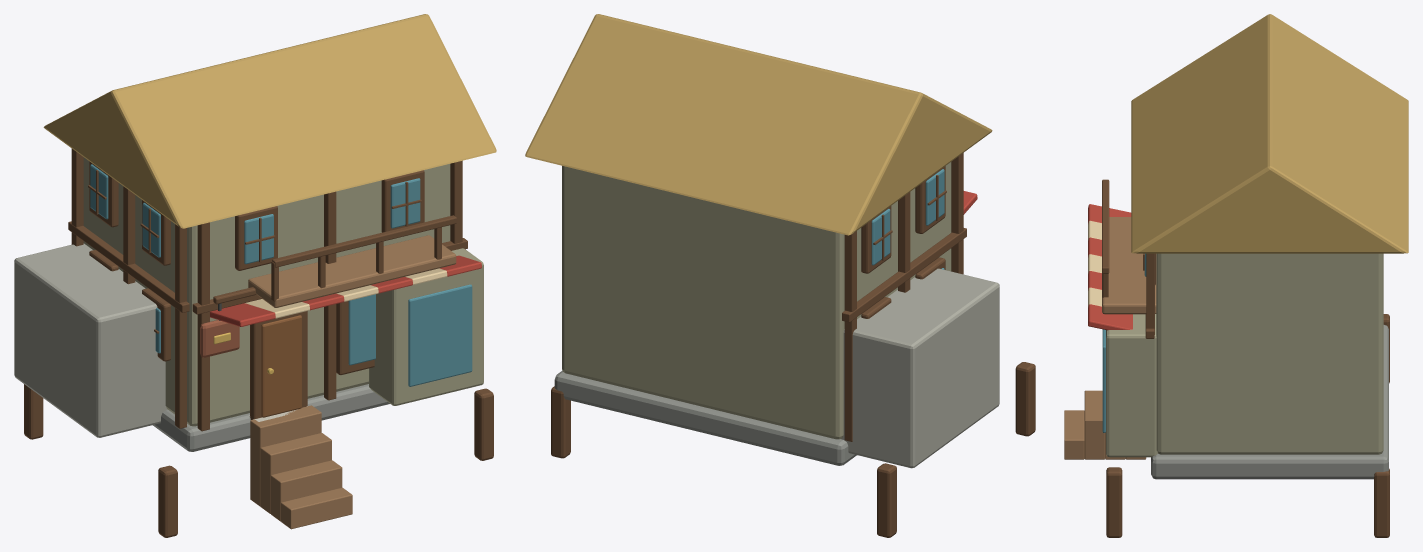
Rendered from wetland-merchant-2.glb.
3 views of the same model, side by side, from view 1: azimuth 30°, elevation 25°; view 2: azimuth 150°, elevation 25°; view 3: azimuth 270°, elevation 25° (orthographic). The views are drawn at different scales.
Visible parts, largest first — view 1: Golden thatch, Weathered planks, Dark beams, Fieldstone, Aged oak, Blue glass, Door oak, Foundation stone, Market red cloth, Market cream cloth, Painted sign; view 2: Weathered planks, Golden thatch, Fieldstone, Dark beams, Foundation stone, Blue glass; view 3: Golden thatch, Weathered planks, Foundation stone, Aged oak, Dark beams, Market red cloth, Market cream cloth, Blue glass.
Part boxes in pixels (<box>): Golden thatch: <box>43,14,496,228</box>; Weathered planks: <box>83,157,483,426</box>; Dark beams: <box>24,148,493,537</box>; Fieldstone: <box>14,243,167,437</box>; Aged oak: <box>248,235,456,529</box>; Blue glass: <box>90,164,472,386</box>; Door oak: <box>261,315,301,417</box>; Foundation stone: <box>153,384,389,451</box>; Market red cloth: <box>210,255,481,326</box>; Market cream cloth: <box>245,268,447,318</box>; Painted sign: <box>200,320,239,357</box>; Weathered planks: <box>562,162,951,439</box>; Golden thatch: <box>525,14,992,235</box>; Fieldstone: <box>841,268,999,468</box>; Dark beams: <box>551,153,1035,537</box>; Foundation stone: <box>554,370,856,465</box>; Blue glass: <box>871,169,944,269</box>; Golden thatch: <box>1131,14,1408,253</box>; Weathered planks: <box>1106,253,1383,457</box>; Foundation stone: <box>1151,325,1388,479</box>; Aged oak: <box>1064,217,1156,459</box>; Dark beams: <box>1102,179,1389,537</box>; Market red cloth: <box>1088,204,1132,330</box>; Market cream cloth: <box>1088,220,1101,307</box>; Blue glass: <box>1102,253,1146,432</box>.
Size of the model in its own units: 4.68 by 4.7 by 3.87.
